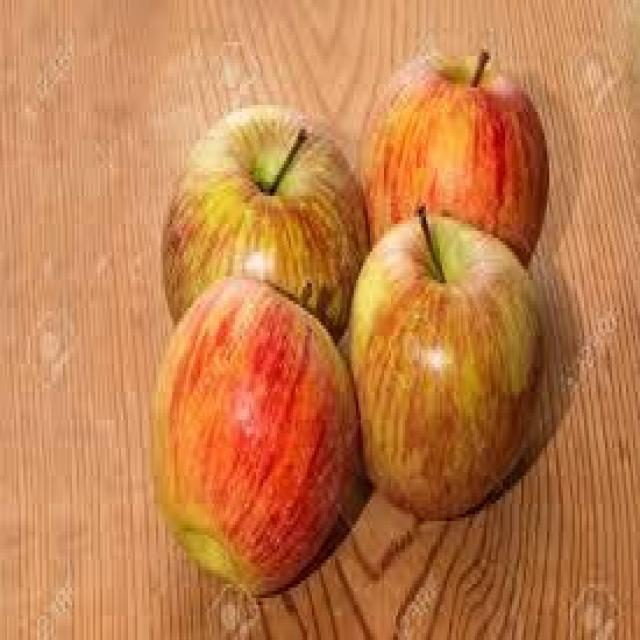apple: (147, 287, 360, 563), (361, 21, 540, 290)
damaged_apple: (349, 217, 545, 518), (156, 119, 363, 357)
